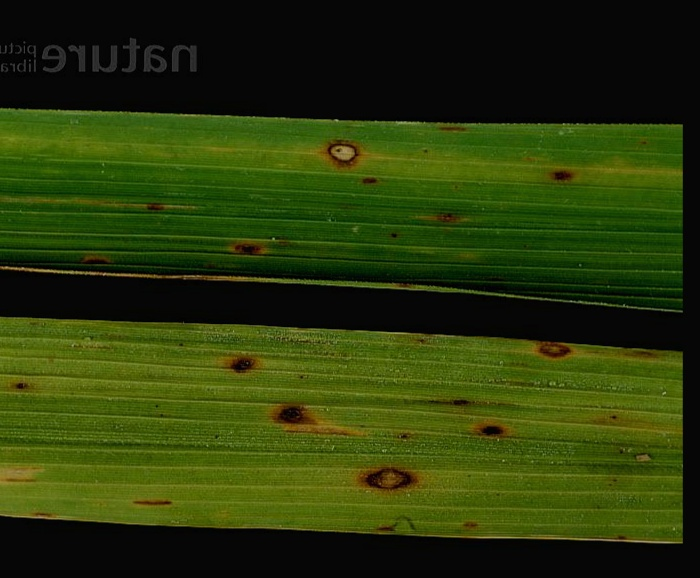Bacterial_Leaf_Blight: (250, 388, 363, 443), (332, 459, 431, 501), (210, 221, 280, 263), (207, 350, 271, 393), (460, 410, 529, 446), (522, 330, 588, 362), (1, 367, 47, 410), (313, 130, 364, 167), (542, 153, 586, 194), (403, 206, 474, 229), (117, 493, 178, 517), (623, 445, 673, 465), (441, 517, 492, 533), (142, 196, 174, 219), (427, 122, 476, 135), (71, 252, 118, 265), (353, 170, 384, 185)
